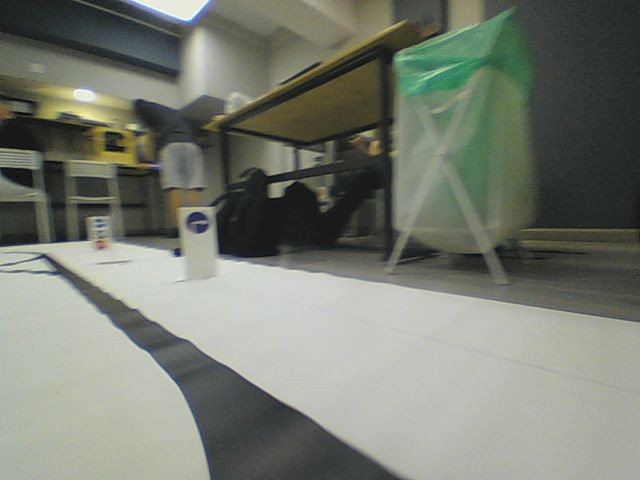Right: (185, 210, 212, 235)
